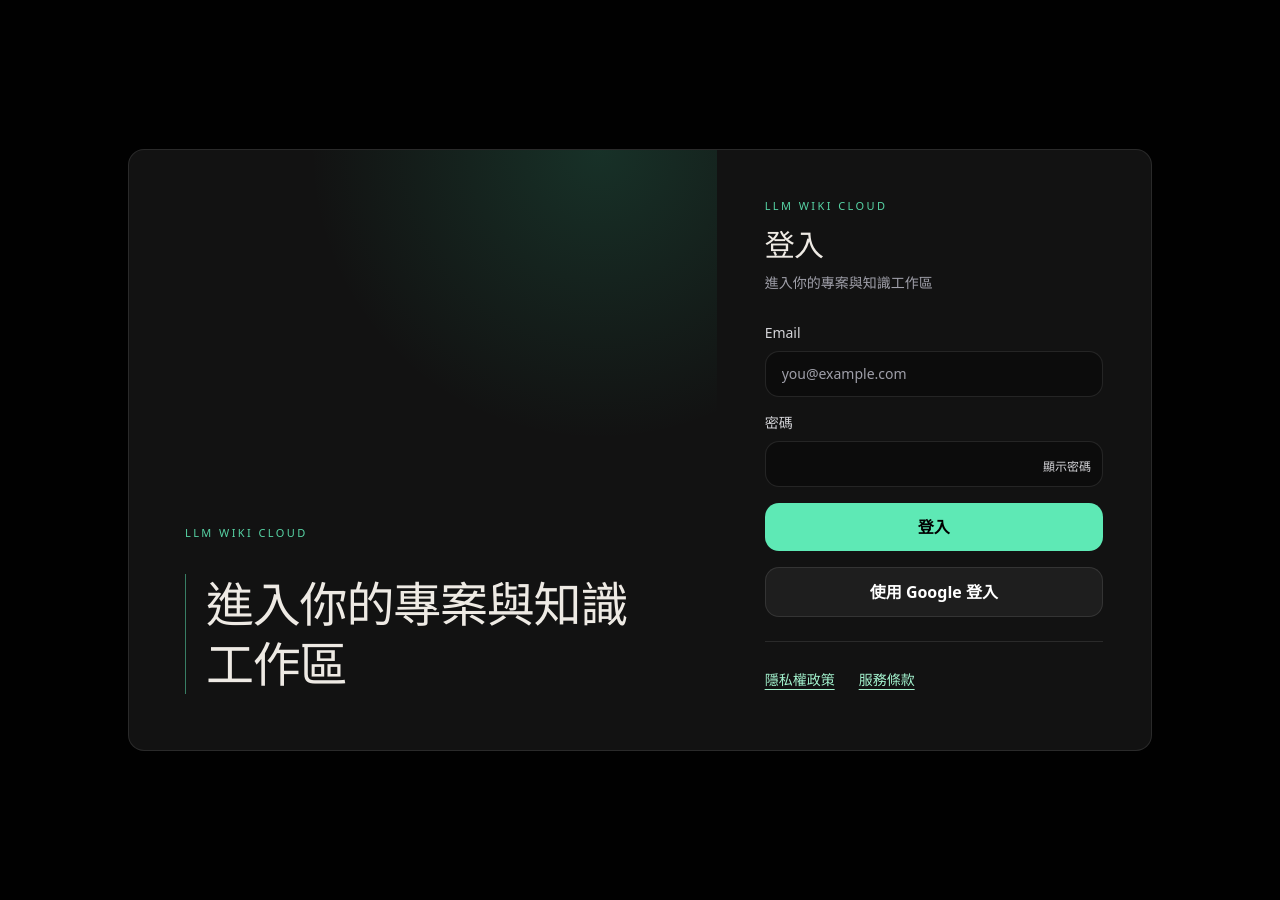
Test: LWC-221 auth redirect behavior › keeps the real login modal visible with its error after failed credentials
This screenshot has width=1280, height=900.
Expected: the dialog is shown, [128,149,1152,751]
Type "user@example.com" into the field with placeholder "you@example.com". click: (934, 374)
box: [765,351,1103,397]
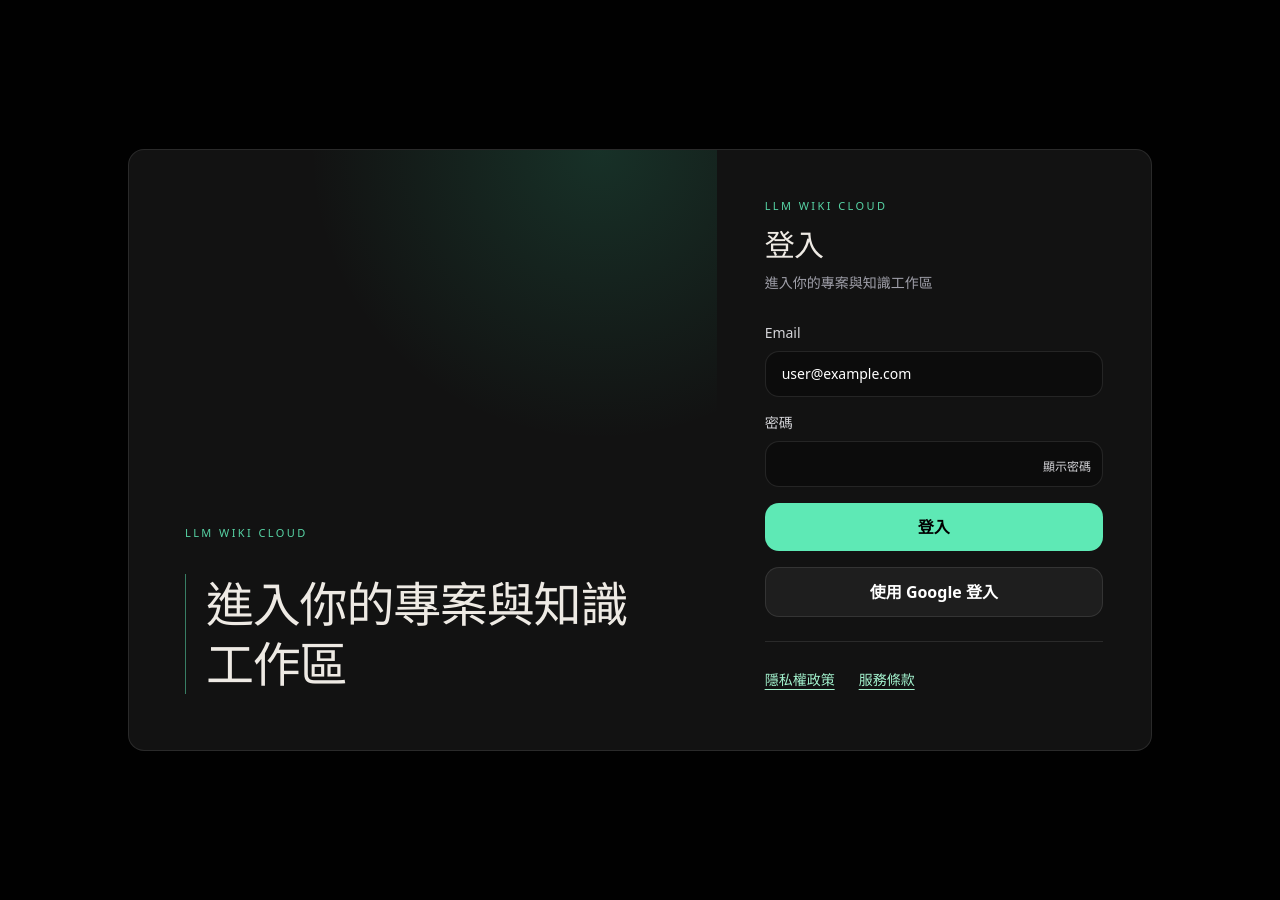
Type "wrong-password" into the password field labelled "密碼". click: (934, 464)
box: [765,441,1103,487]
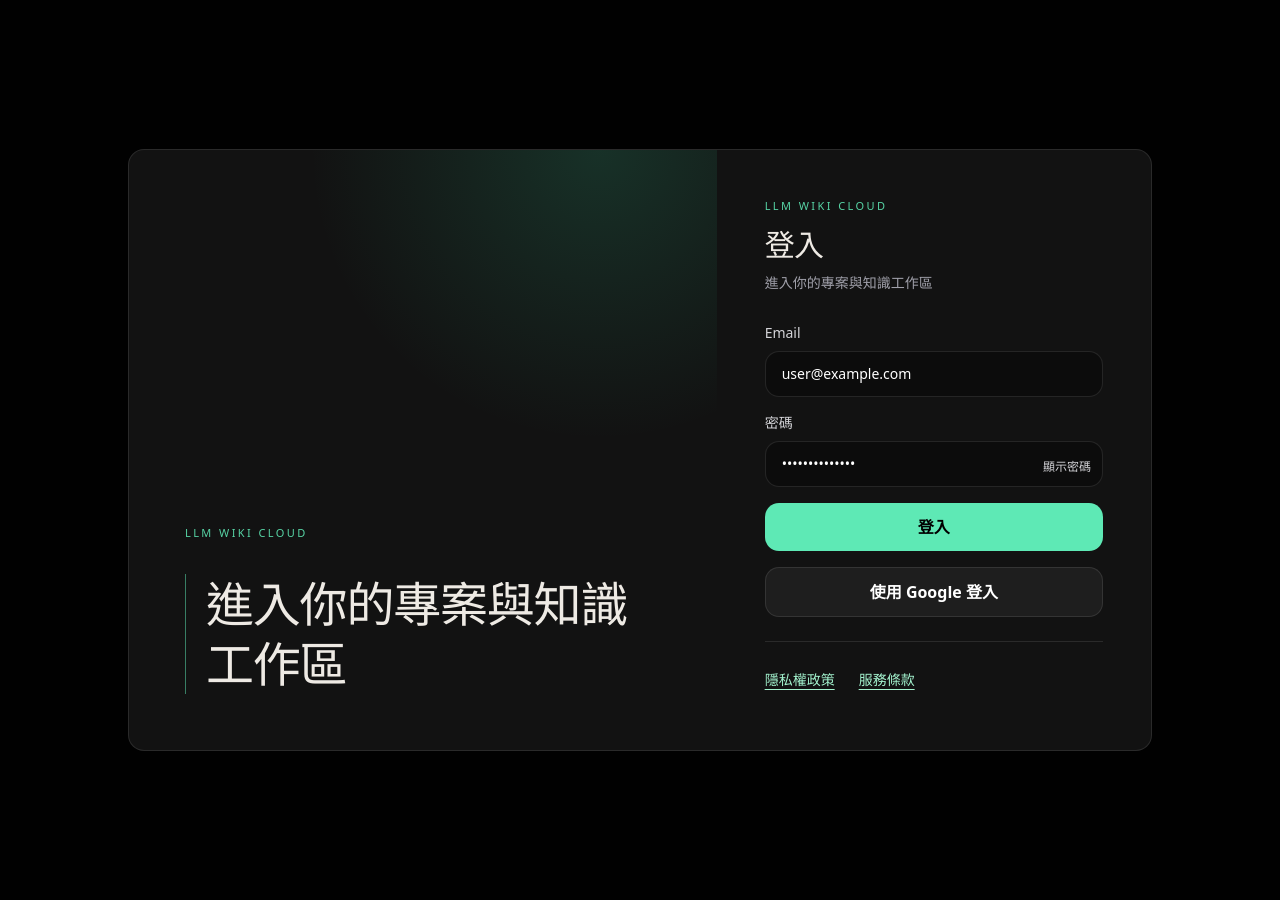
Click the button "登入". click: (934, 527)
box: [765,503,1103,551]
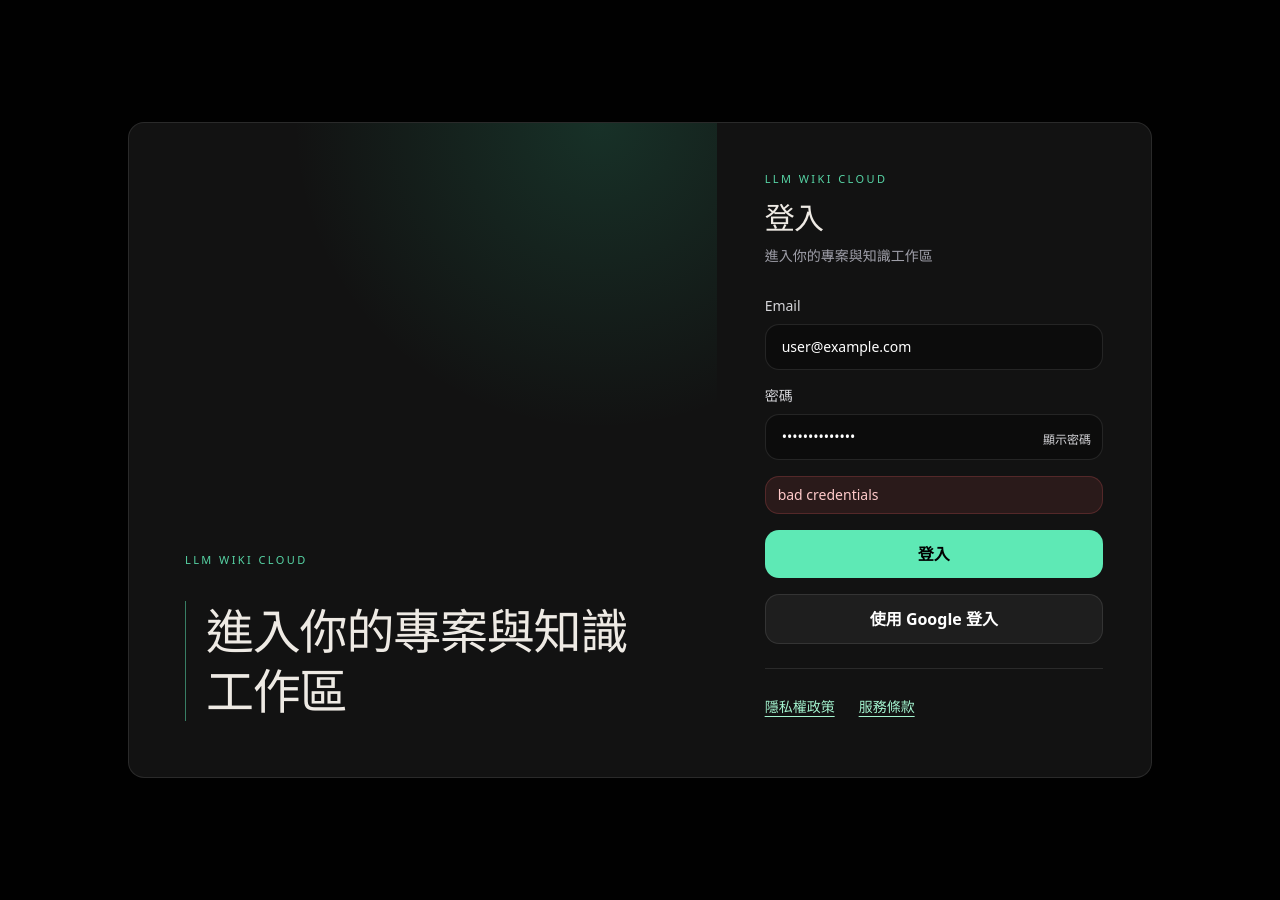
Expected: the dialog is shown, [128,122,1152,778]
Expected: the text "bad credentials" is shown, [765,476,1103,514]
